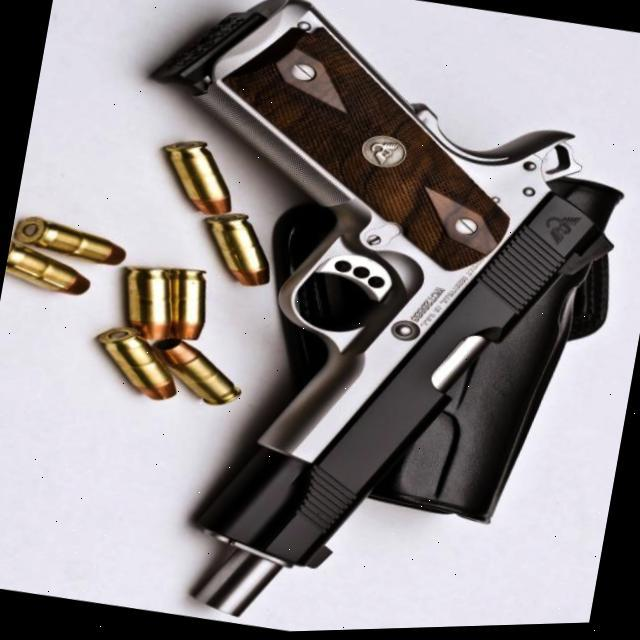gun: (60, 0, 640, 639)
